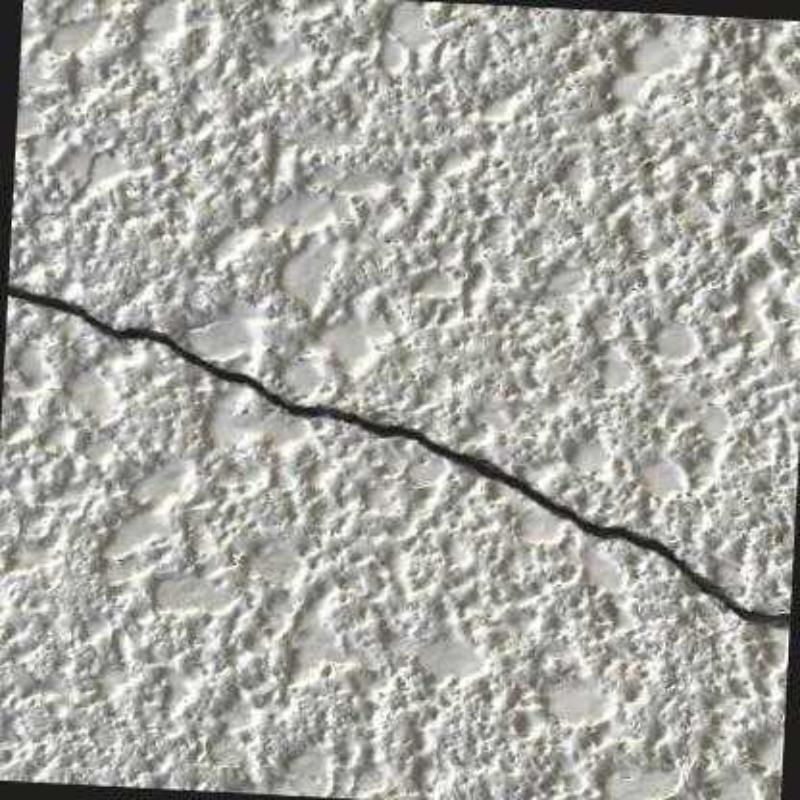crack: (10, 281, 784, 629)
